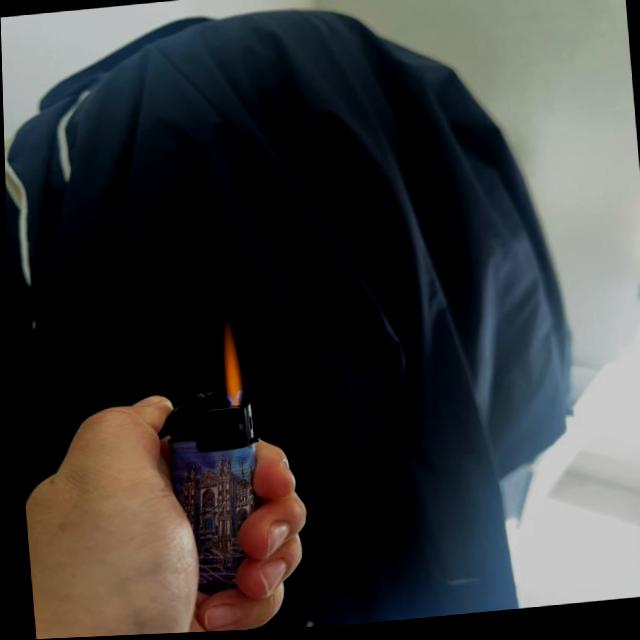Fire: (215, 318, 244, 402)
